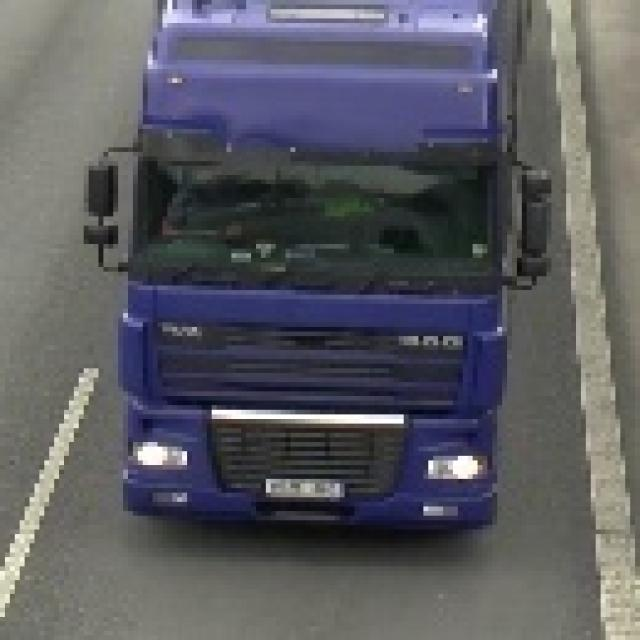TRUCK: (124, 2, 515, 545)
